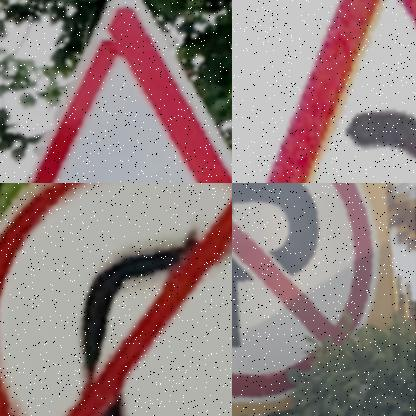Left bend: (232, 0, 416, 183)
No Parking: (232, 183, 415, 416)
No right turn: (0, 183, 232, 416)
Speed Breaker Ahead: (21, 0, 232, 183)
